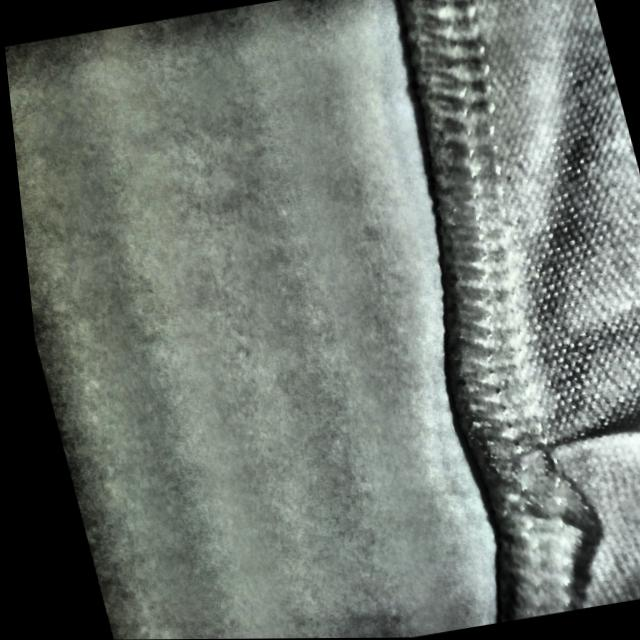seam: (445, 390, 640, 620)
